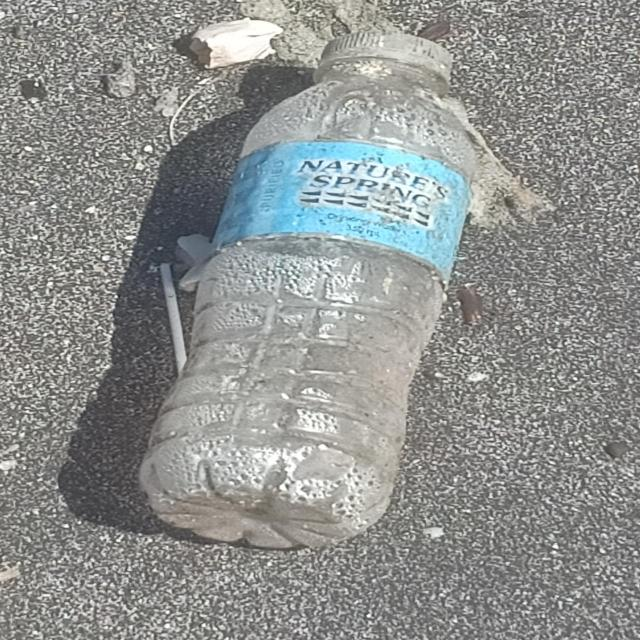plastic_waste: (139, 31, 477, 550)
